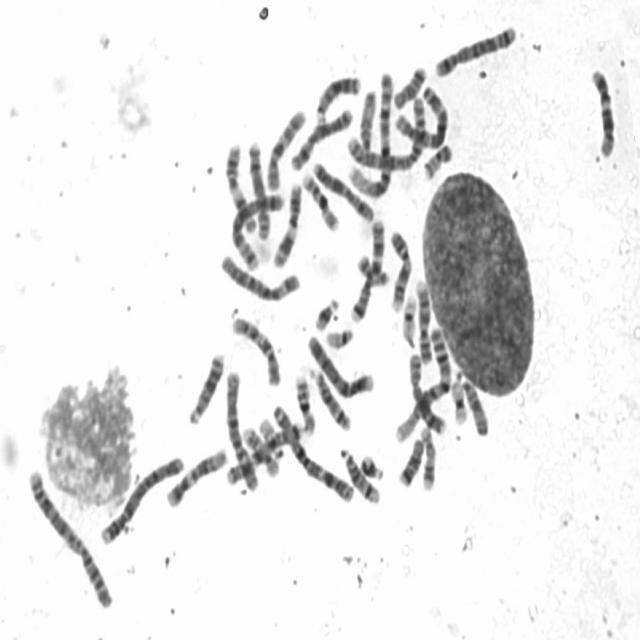A1: (391, 324, 452, 444), (345, 70, 395, 200)
A2: (24, 463, 114, 612), (345, 93, 428, 175)
A3: (269, 397, 356, 503), (392, 82, 451, 151)
B4: (98, 449, 186, 547), (304, 329, 376, 401)
B5: (431, 19, 518, 79), (228, 188, 286, 270)
C10: (227, 309, 283, 387), (264, 106, 307, 192)
C11: (220, 136, 258, 238), (270, 180, 304, 270)
C12: (162, 440, 230, 509), (588, 62, 618, 159)
C6: (222, 366, 260, 492), (217, 250, 301, 304)
C7: (222, 417, 307, 487), (346, 214, 386, 324)
C8: (406, 350, 446, 436), (245, 135, 270, 241)
C9: (387, 224, 414, 314), (412, 274, 434, 366)
D13: (186, 346, 227, 427), (312, 70, 362, 125)
D14: (308, 364, 353, 433), (336, 442, 384, 506)
D15: (454, 364, 492, 440), (356, 85, 378, 155)
E16: (298, 168, 341, 233), (292, 370, 317, 436)
E17: (238, 421, 281, 479), (417, 422, 438, 493)
E18: (392, 61, 429, 110), (394, 433, 425, 489)
F19: (448, 368, 468, 427), (398, 290, 418, 348)
F20: (355, 249, 391, 288), (420, 140, 454, 180)
G21: (311, 291, 341, 333), (358, 448, 387, 482)
G22: (256, 413, 283, 464), (321, 323, 355, 351)
X: (287, 101, 355, 171), (309, 157, 376, 223)
